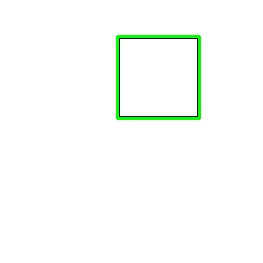line_segment: (116, 35, 201, 120)
